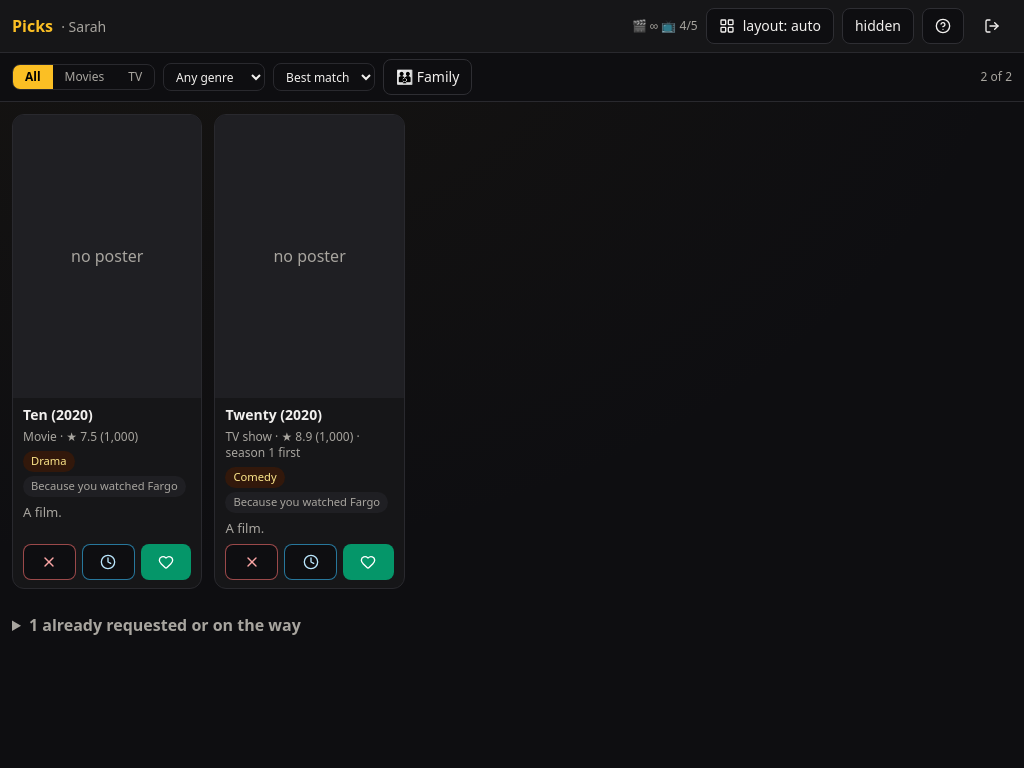
Test case: MePage › a request goes out as the person and moves the title to queued
Expected: the text "Ten (2020)" is shown, [23,405,93,424]
Click the button named "Request: Ten" at (166, 562), box [141,544,191,580]
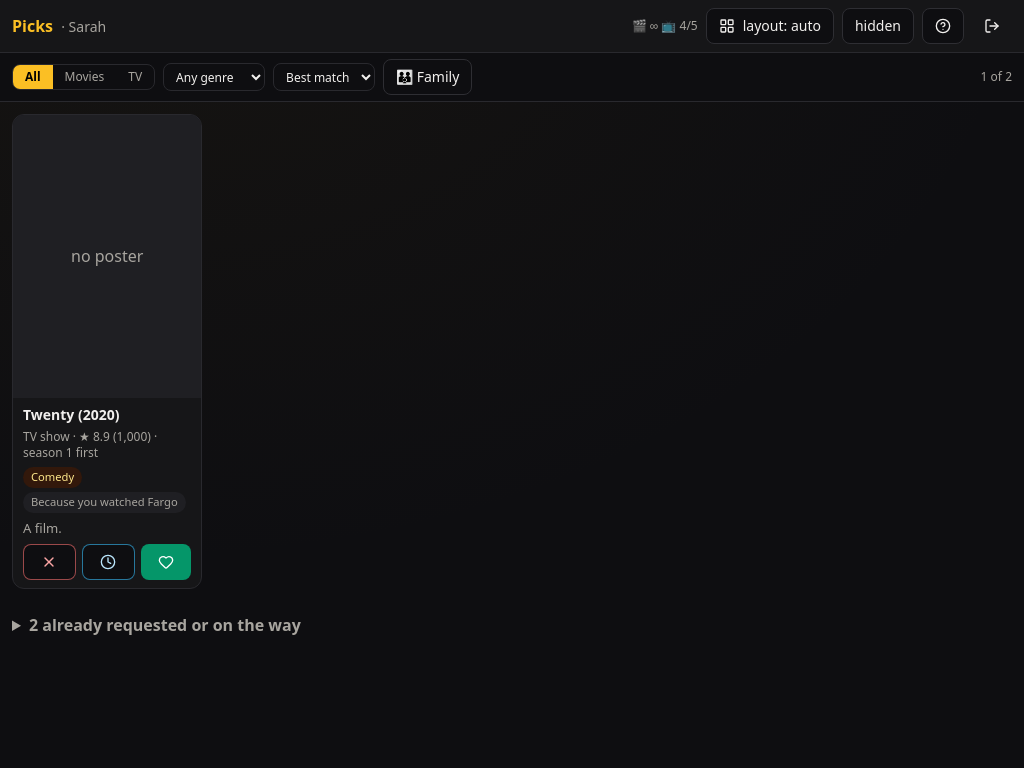
Result: the heading "2 already requested or on the way" is shown at [29,614,301,636]
